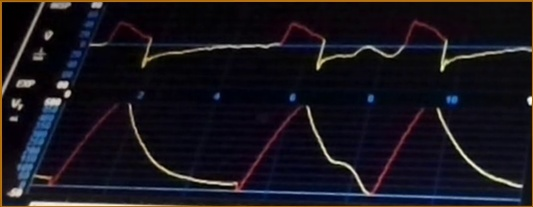Ineffective_effort Flow: (93, 17, 531, 77)
Ineffective_effort Volume: (35, 103, 525, 199)
